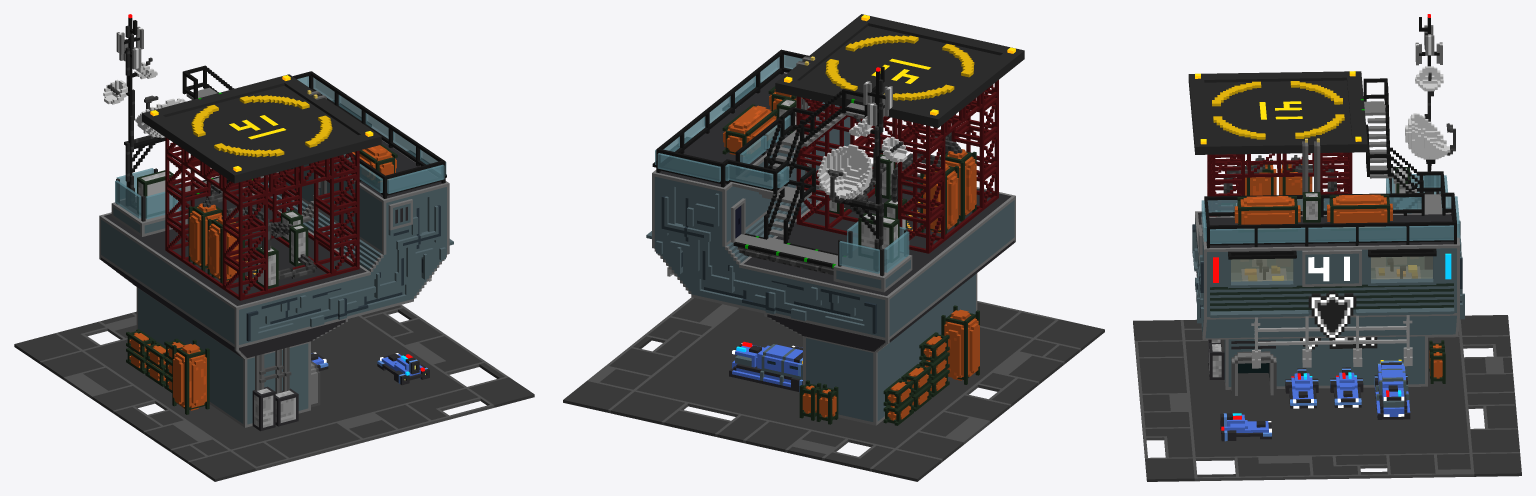
Rendered from almacen2_lev3.glb.
3 views of the same model, side by side, from view 1: azimuth 30°, elevation 25°; view 2: azimuth 150°, elevation 25°; view 3: azimuth 270°, elevation 25° (orthographic). The views are drawn at different scales.
Parts seen in each view (by area): view 1: Object_2.002; view 2: Object_2.002; view 3: Object_2.002.
Part boxes in pixels (<box>): Object_2.002: <box>14,14,534,481</box>; Object_2.002: <box>563,14,1104,481</box>; Object_2.002: <box>1133,14,1521,481</box>.
Size of the model in its own units: 43.15 by 41.64 by 43.15.
Materials: 1 (1 with a texture image).
